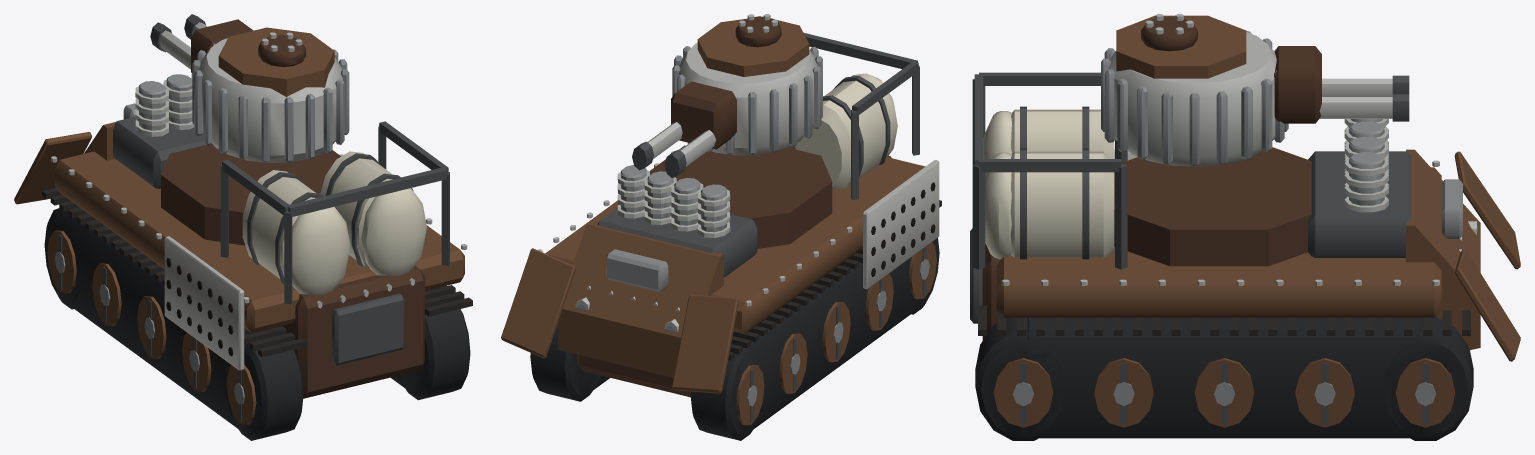
Rendered from tank.glb.
3 views of the same model, side by side, from view 1: azimuth 30°, elevation 25°; view 2: azimuth 150°, elevation 25°; view 3: azimuth 270°, elevation 25° (orthographic). The views are drawn at different scales.
Visible parts, largest first — view 1: body, anim_turret_head, anim_tread, anim_wheel_track.004, anim_wheel_track.002, anim_wheel_track.003, anim_wheel_track, anim_wheel_track.001, anim_tread.001; view 2: body, anim_turret_head, anim_tread, anim_wheel_track.003, anim_wheel_track.004, anim_wheel_track.002, anim_wheel_track.001, anim_wheel_track; view 3: body, anim_turret_head, anim_tread.001, anim_wheel_track.006, anim_wheel_track.008, anim_wheel_track.005, anim_wheel_track.007, anim_wheel_track.009.
Boxes of the visible parts, x1=… form: body: x1=14, y1=74, x2=470, y2=440; anim_turret_head: x1=150, y1=14, x2=349, y2=162; anim_tread: x1=42, y1=187, x2=305, y2=357; anim_wheel_track.004: x1=47, y1=230, x2=76, y2=293; anim_wheel_track.002: x1=137, y1=296, x2=166, y2=358; anim_wheel_track.003: x1=92, y1=263, x2=121, y2=326; anim_wheel_track: x1=227, y1=364, x2=256, y2=424; anim_wheel_track.001: x1=182, y1=332, x2=211, y2=391; anim_tread.001: x1=425, y1=285, x2=472, y2=316; body: x1=501, y1=33, x2=939, y2=440; anim_turret_head: x1=632, y1=14, x2=822, y2=178; anim_tread: x1=728, y1=200, x2=941, y2=360; anim_wheel_track.003: x1=779, y1=333, x2=807, y2=393; anim_wheel_track.004: x1=736, y1=365, x2=764, y2=425; anim_wheel_track.002: x1=822, y1=301, x2=850, y2=362; anim_wheel_track.001: x1=865, y1=274, x2=893, y2=330; anim_wheel_track: x1=908, y1=242, x2=936, y2=299; body: x1=970, y1=72, x2=1520, y2=440; anim_turret_head: x1=1101, y1=14, x2=1409, y2=166; anim_tread.001: x1=978, y1=305, x2=1470, y2=335; anim_wheel_track.006: x1=1094, y1=358, x2=1153, y2=427; anim_wheel_track.008: x1=1295, y1=358, x2=1354, y2=427; anim_wheel_track.005: x1=993, y1=358, x2=1053, y2=427; anim_wheel_track.007: x1=1194, y1=358, x2=1254, y2=427; anim_wheel_track.009: x1=1395, y1=358, x2=1455, y2=427.
Size of the model in its own units: 1.8 by 2.42 by 3.32.
